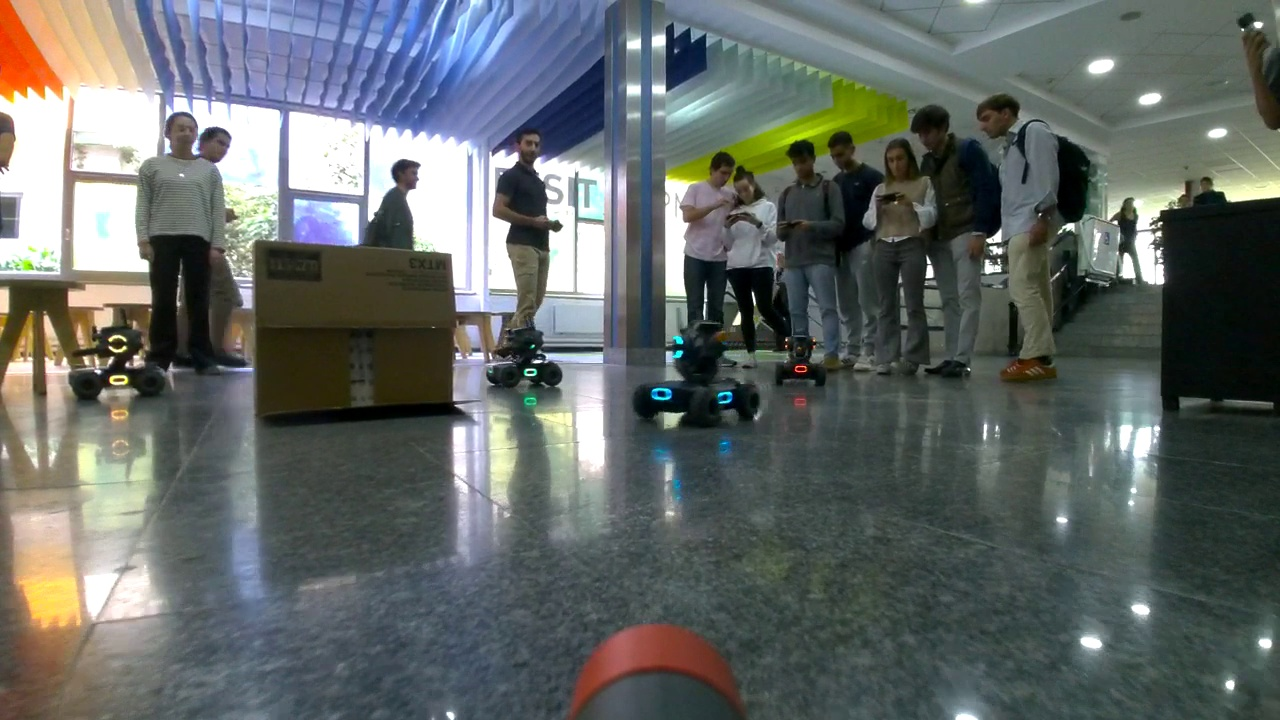robot: (69, 326, 164, 393), (488, 328, 561, 383), (775, 334, 825, 384)
